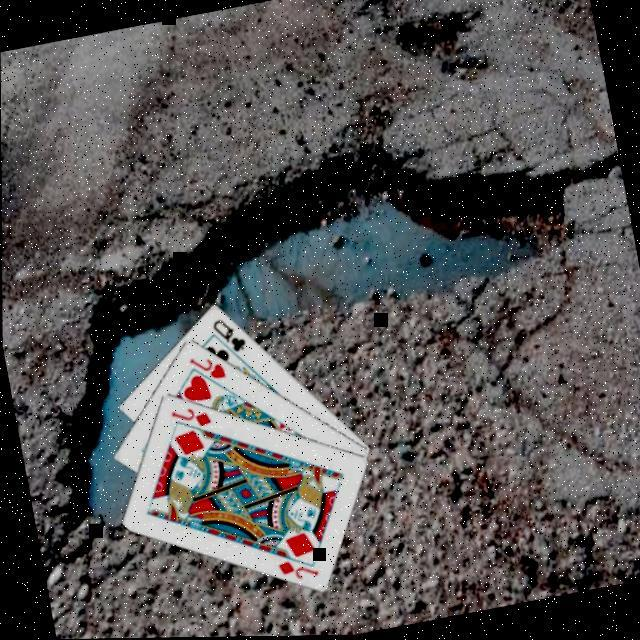JD: (274, 550, 322, 586), (168, 399, 216, 434)
JH: (186, 346, 230, 386)
QC: (208, 309, 252, 358)
